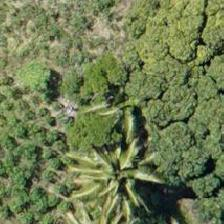coconut_tree: (67, 128, 157, 218)
